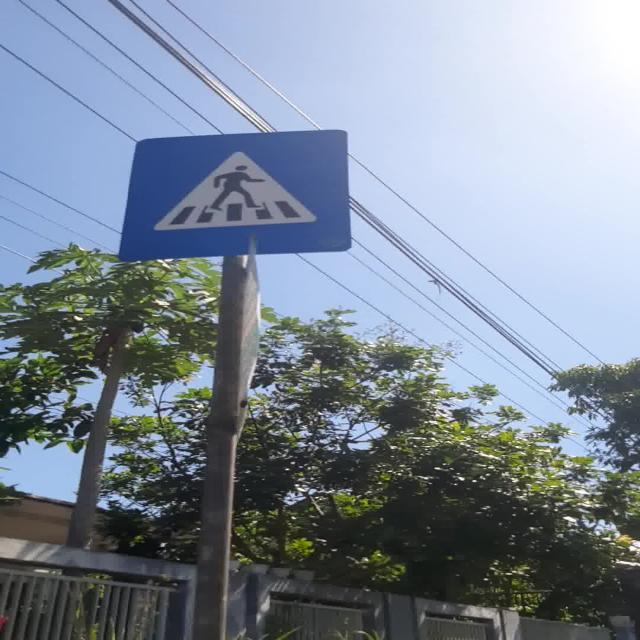Perintah Jalur Penyebrangan: (118, 130, 351, 262)
